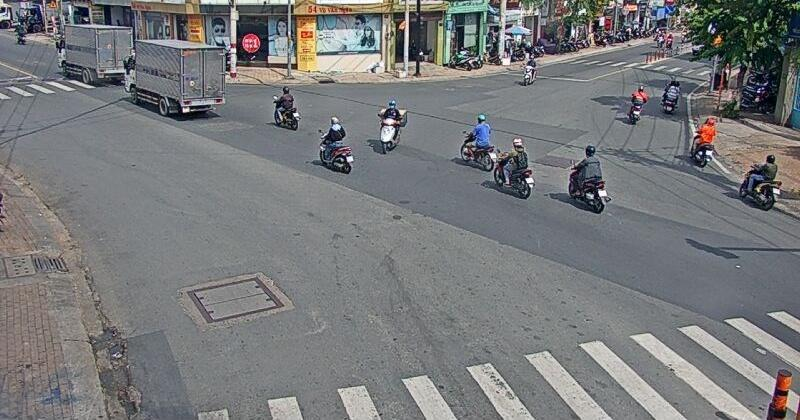xe may: (567, 146, 610, 213), (493, 139, 533, 200), (738, 154, 780, 212), (459, 115, 495, 173), (318, 116, 352, 174), (378, 100, 406, 154), (273, 85, 300, 131), (691, 118, 714, 167), (627, 85, 647, 124)
xe tai: (124, 39, 225, 115)
